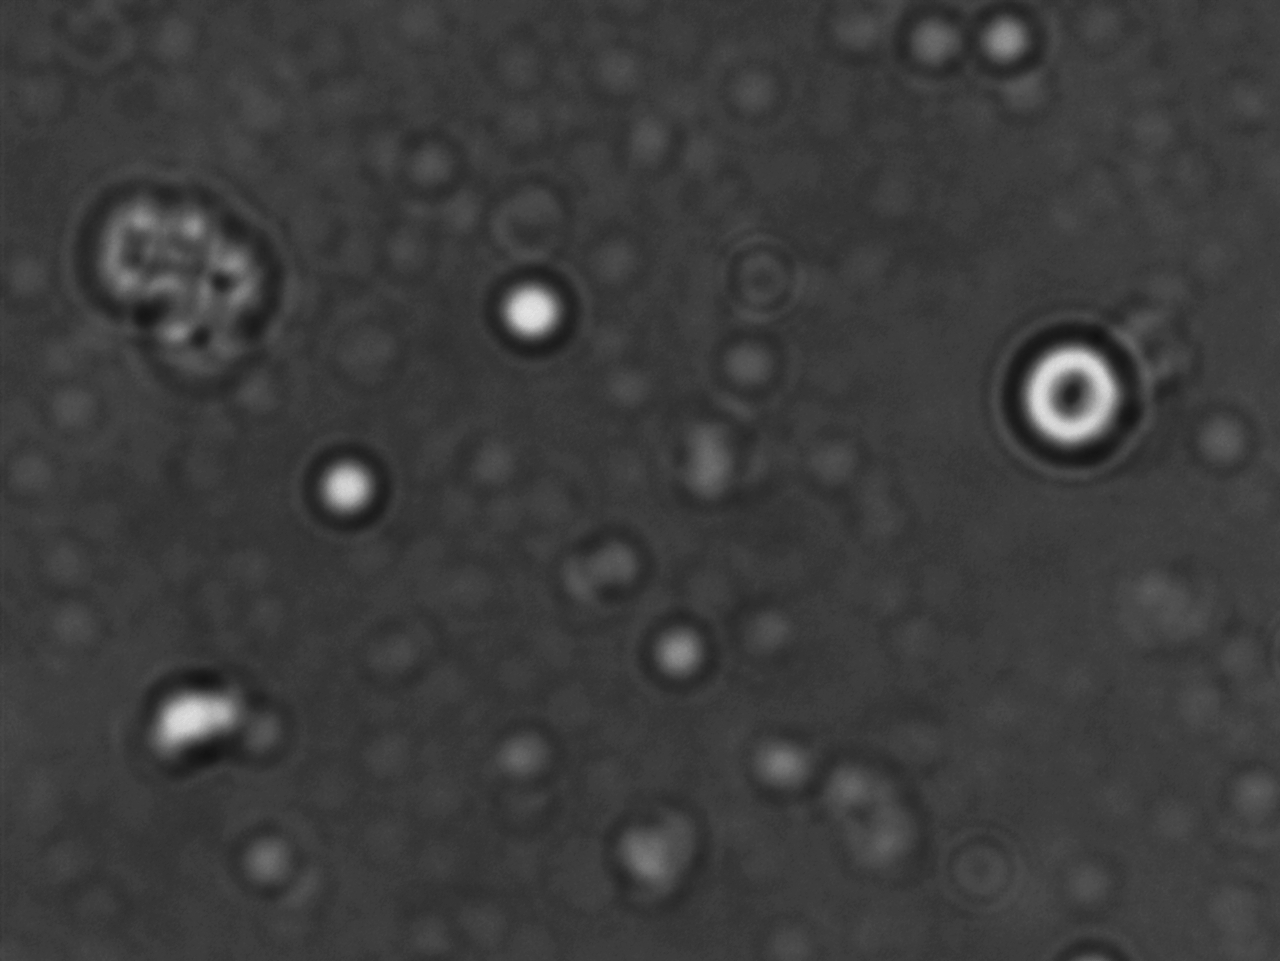depth:24: (985, 310, 1156, 477)
